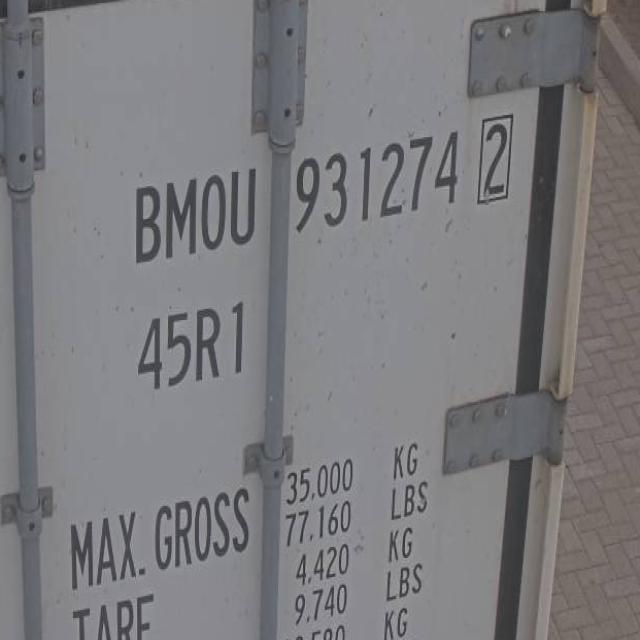dv: (471, 105, 519, 214)
owner: (130, 153, 261, 270)
serial: (290, 126, 461, 239)
size: (124, 284, 253, 401)
